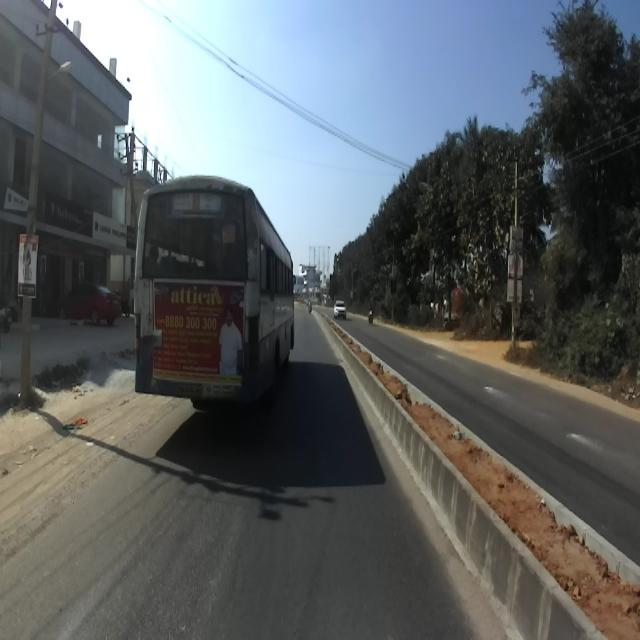bus: (133, 174, 296, 412)
